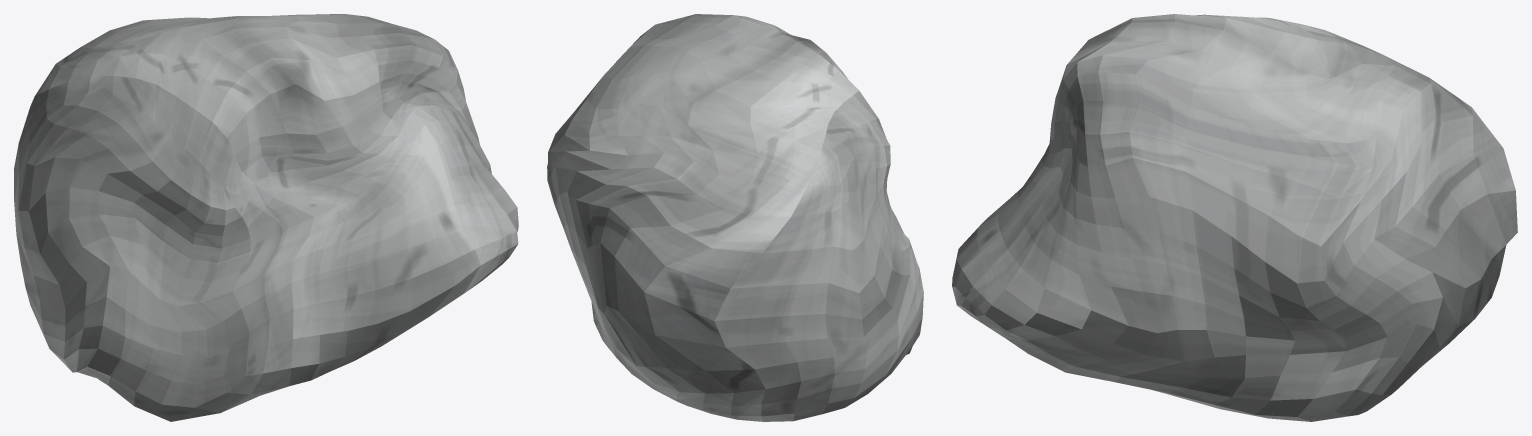
The model's file is rock2.fbx.
3 views of the same model, side by side, from view 1: azimuth 30°, elevation 25°; view 2: azimuth 150°, elevation 25°; view 3: azimuth 270°, elevation 25° (orthographic). The views are drawn at different scales.
Visible parts, largest first — view 1: Cube; view 2: Cube; view 3: Cube.
Part boxes in pixels (left/top/right/bottom): Cube: left=14, top=14, right=518, bottom=421; Cube: left=547, top=14, right=923, bottom=421; Cube: left=952, top=14, right=1517, bottom=421.
Bounding box in the file's own units: 2.83 × 2.49 × 3.4.
1 material, 1 textured.
